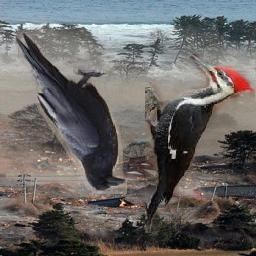Crow: (13, 30, 127, 194)
Woodpecker: (145, 55, 255, 234)
